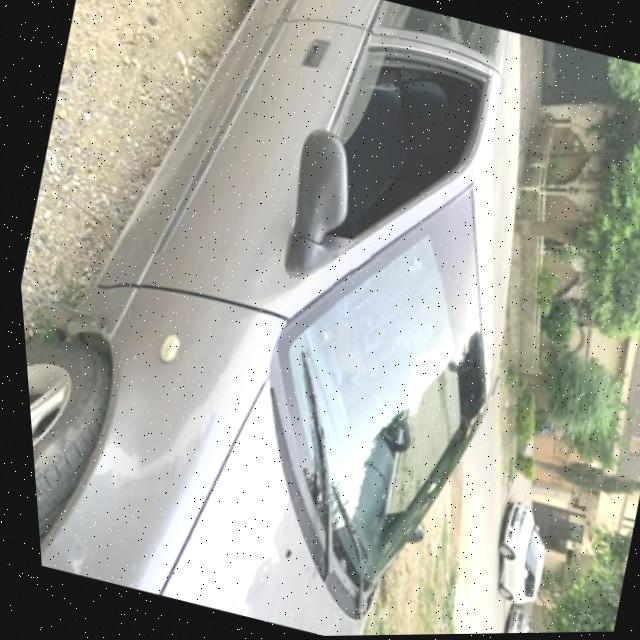no-seatbelt: (303, 246, 454, 394)
